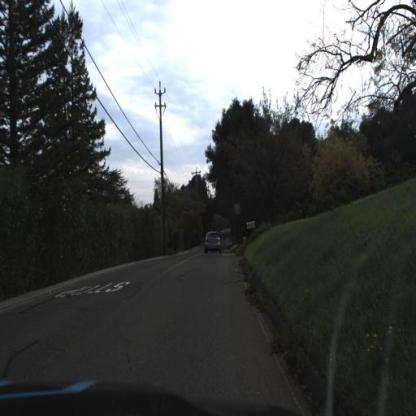car: (204, 229, 225, 258)
